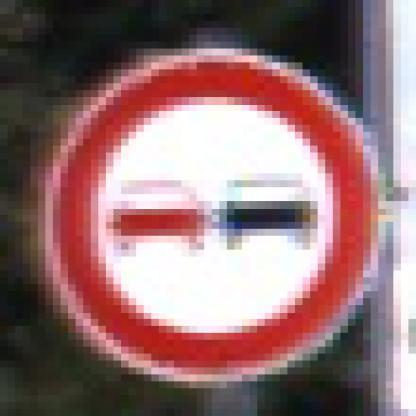No Overtaking: (39, 43, 379, 382)
